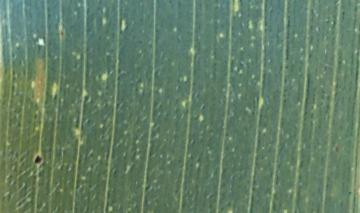tarspot: (30, 149, 47, 170), (57, 26, 68, 42)
